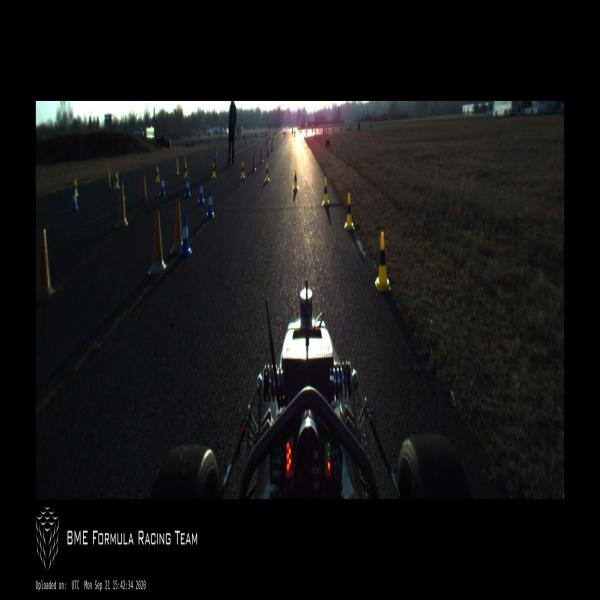blue_cone: (179, 213, 192, 259), (206, 186, 214, 219), (118, 178, 126, 201), (198, 179, 205, 205), (184, 174, 191, 198), (71, 189, 78, 212), (160, 174, 166, 198)
yellow_cone: (375, 232, 391, 293), (344, 192, 354, 232), (322, 178, 330, 206), (292, 169, 298, 192), (264, 162, 270, 182), (240, 160, 245, 179), (114, 172, 119, 190), (155, 166, 160, 183), (74, 179, 79, 196), (212, 161, 216, 179), (184, 161, 188, 179)
